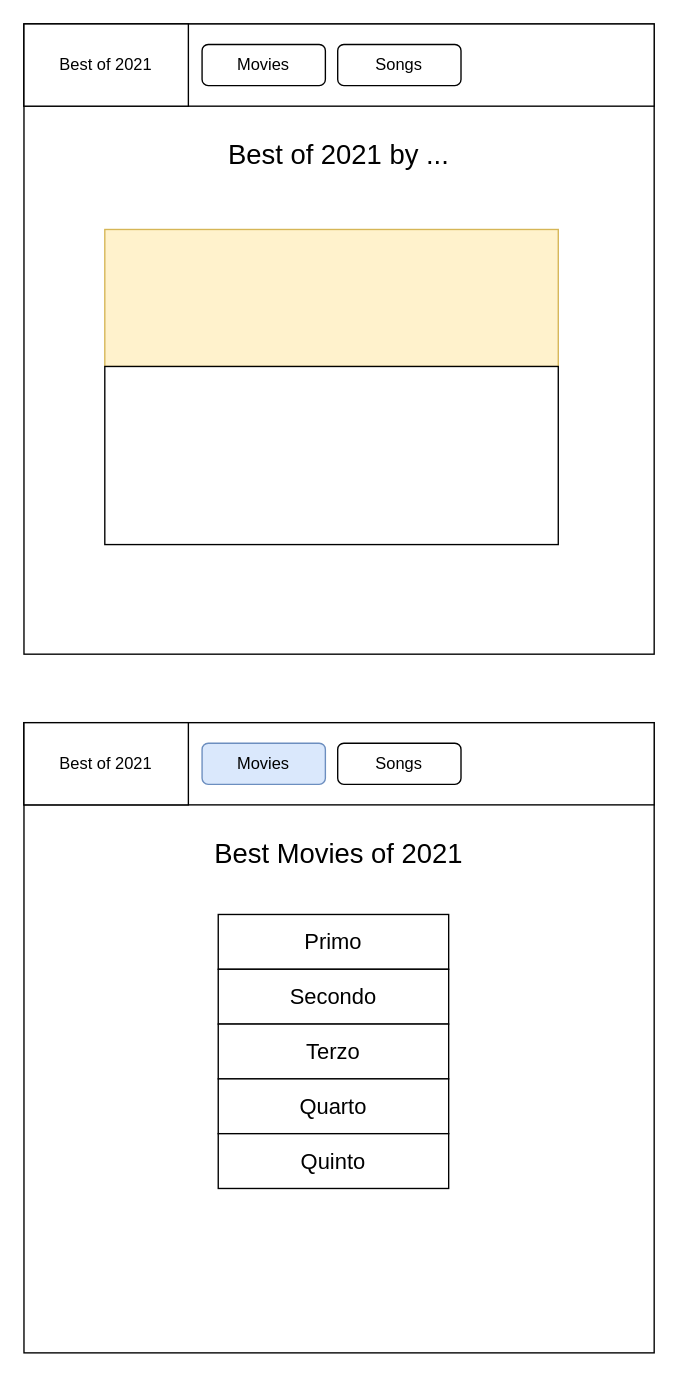
This 678x1377 diagram has some shape labels left out. Each missing label, with the centre of its shape:
image: the point at 330,297
lorem ipsum: the point at 330,455
